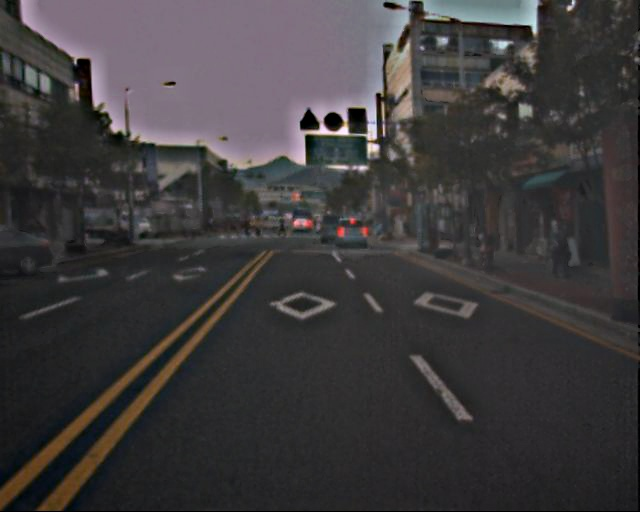person: (542, 216, 570, 278)
